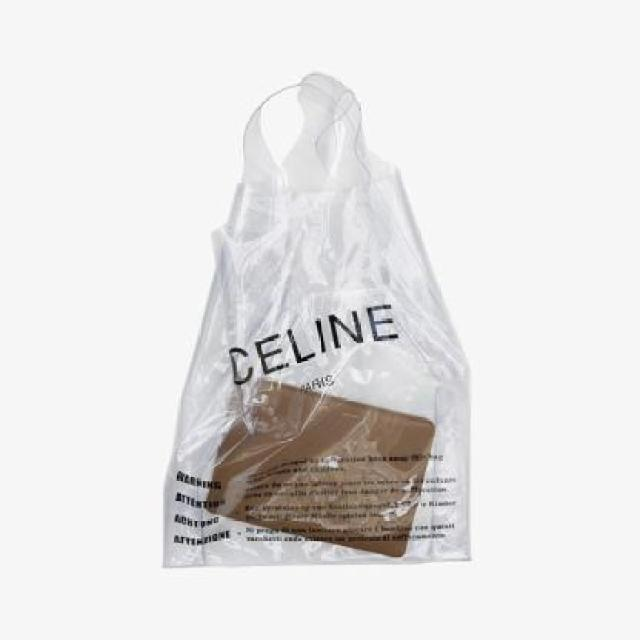plastic bag: (142, 69, 506, 587)
